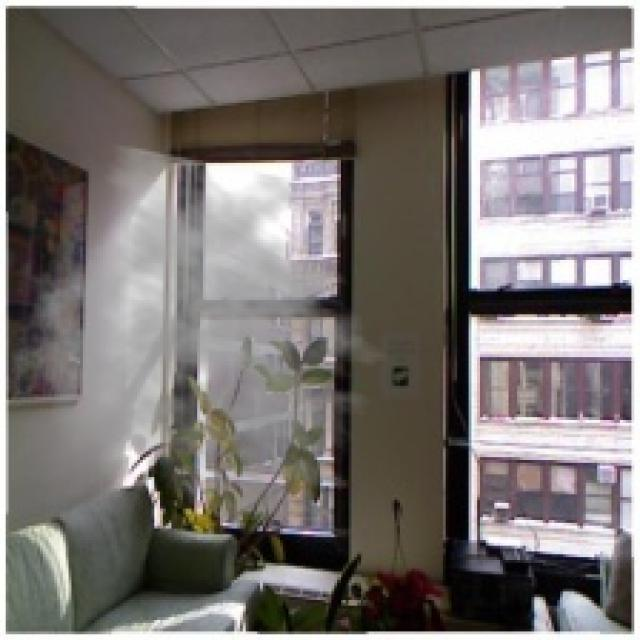Smoke: (8, 143, 406, 526)
